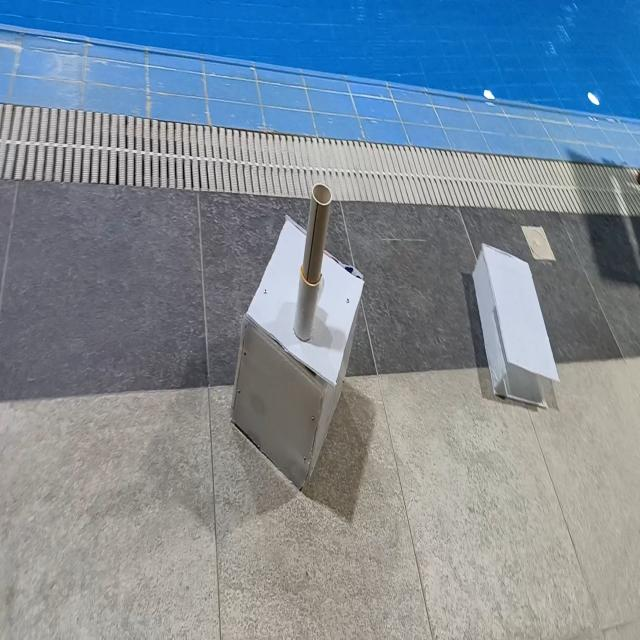Cube: (229, 211, 365, 492)
Cuboid: (472, 240, 560, 409)
